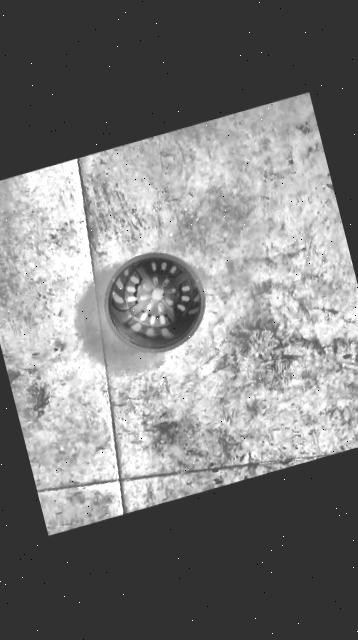pot: (93, 240, 213, 366)
